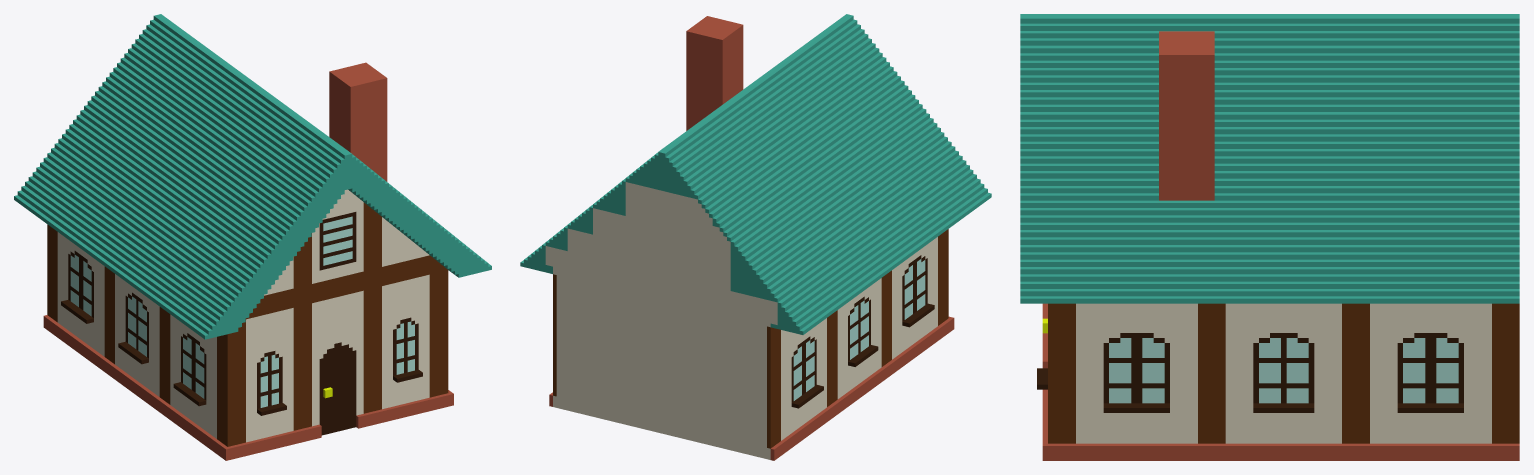
The model's file is house.lightblue.obj.
3 renders of one model, left to right at view 1: azimuth 30°, elevation 25°; view 2: azimuth 150°, elevation 25°; view 3: azimuth 270°, elevation 25°, orthographic. The views are drawn at different scales.
Bounding box in the file's own units: 7.8 × 7.8 × 9.
1 material, 1 textured.
